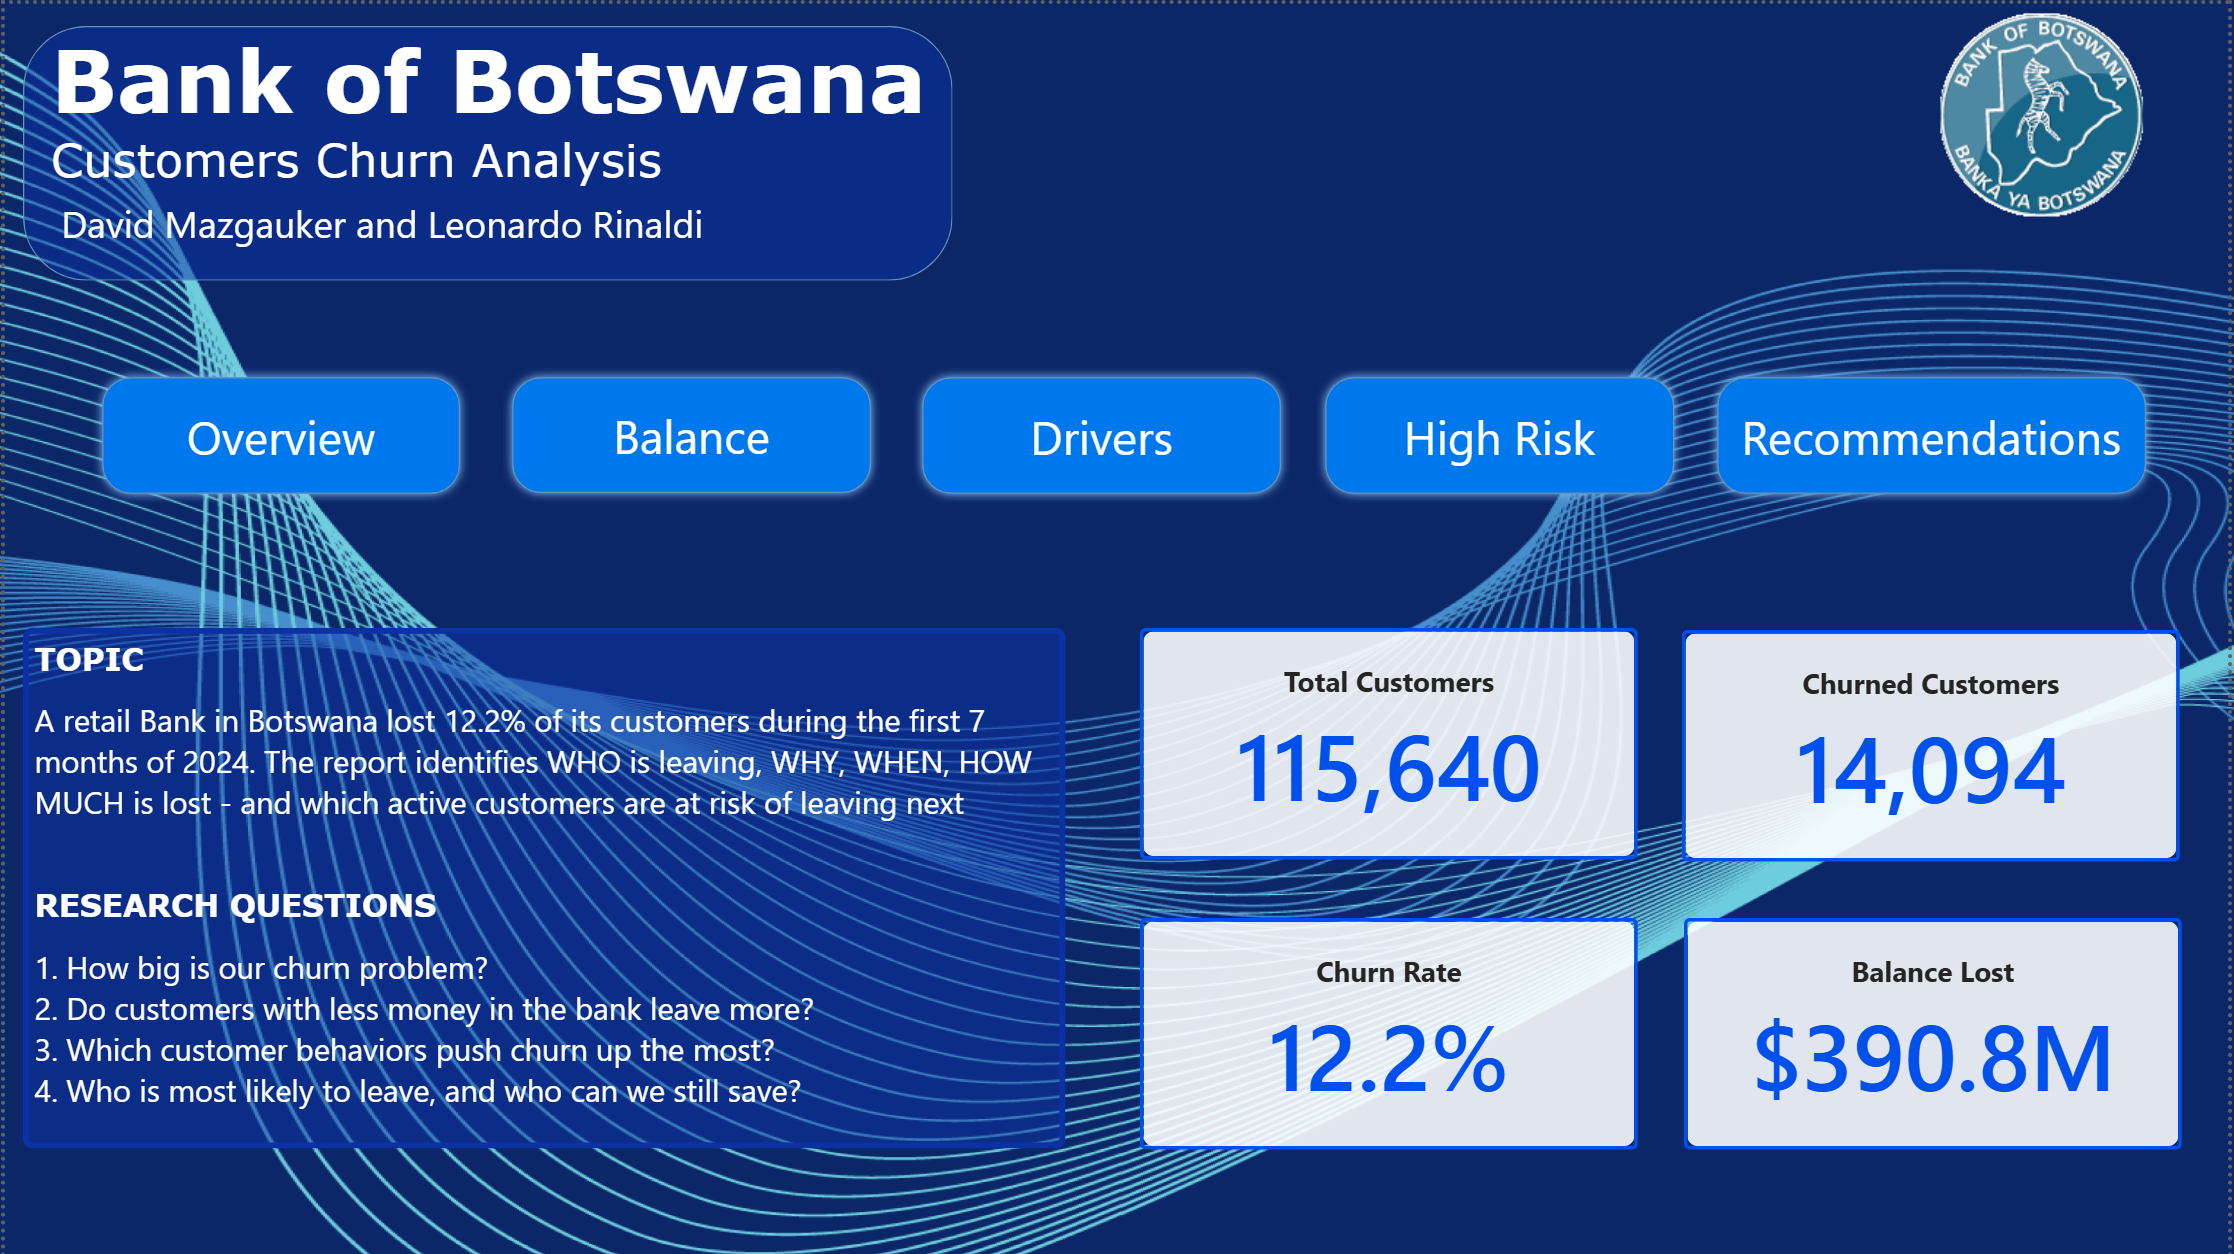

The dashboard page shown, as its layout file describes it:
{"tool":"powerbi","page":{"name":"Home","canvas":[1920,1080],"ordinal":0},"visuals":[{"type":"shape","box":[15.3,19.1,803.2,219.9],"z":1500},{"type":"cardVisual","fields":{"Data":["All Measures.Total Customers"]},"box":[979.1,539.3,430,200],"z":2000},{"type":"cardVisual","fields":{"Data":["All Measures.Churn Rate"]},"box":[979.1,789.8,430,200],"z":3000},{"type":"cardVisual","fields":{"Data":["All Measures.Balance Lost"]},"box":[1449.6,789.8,430,200],"z":4000},{"type":"textbox","box":[40.2,19.1,772.6,151.1],"z":5000},{"type":"cardVisual","fields":{"Data":["All Measures.Churned Customers"]},"box":[1447.6,541.2,430,200],"z":6000},{"type":"textbox","box":[15.3,539.3,900.7,449.4],"z":7000},{"type":"shape","box":[76.5,314.6,325.1,116.7],"z":8000},{"type":"shape","box":[430.3,314.6,325.9,116],"z":9000},{"type":"shape","box":[784.1,314.6,325.1,116.7],"z":10000},{"type":"shape","box":[1132.1,314.6,317.5,116.7],"z":11000},{"type":"shape","box":[1470.6,314.6,386.3,116.7],"z":12000},{"type":"image","box":[1639.6,1.7,239,189.3],"z":13000},{"type":"textbox","box":[40.2,168.3,751.6,107.1],"z":14000}]}

Visuals, with their boxes in screenshot pixels (x1, y1, x2, y2), scaled from the page's 1920x1080 canvas onto the 2234x1254 screenshot:
shape: (18, 22, 952, 278)
cardVisual - All Measures.Total Customers: (1139, 626, 1640, 858)
cardVisual - All Measures.Churn Rate: (1139, 917, 1640, 1149)
cardVisual - All Measures.Balance Lost: (1687, 917, 2187, 1149)
textbox: (47, 22, 946, 198)
cardVisual - All Measures.Churned Customers: (1684, 628, 2185, 861)
textbox: (18, 626, 1066, 1148)
shape: (89, 365, 467, 501)
shape: (501, 365, 880, 500)
shape: (912, 365, 1291, 501)
shape: (1317, 365, 1687, 501)
shape: (1711, 365, 2161, 501)
image: (1908, 2, 2186, 222)
textbox: (47, 195, 921, 320)
